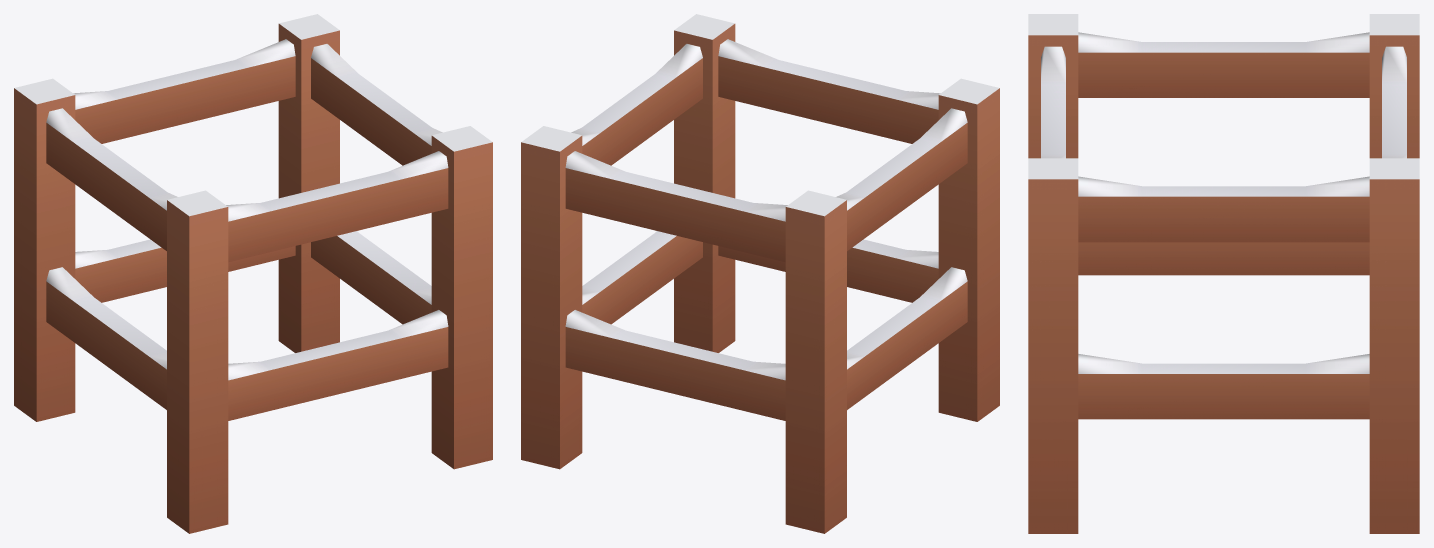
The model's file is snow-wood-structure-high.glb.
The picture shows the model from 3 angles, left to right: view 1: azimuth 30°, elevation 25°; view 2: azimuth 150°, elevation 25°; view 3: azimuth 270°, elevation 25°; orthographic projection. The views are drawn at different scales.
Parts seen in each view (by area): view 1: snow-wood-structure-high; view 2: snow-wood-structure-high; view 3: snow-wood-structure-high.
Part boxes in pixels (x1,y1,x2,y2): snow-wood-structure-high: (14,14,492,533); snow-wood-structure-high: (521,14,999,533); snow-wood-structure-high: (1028,14,1419,533).
Bounding box in the file's own units: 1 × 1 × 1.
Materials: 1 (1 with a texture image).
